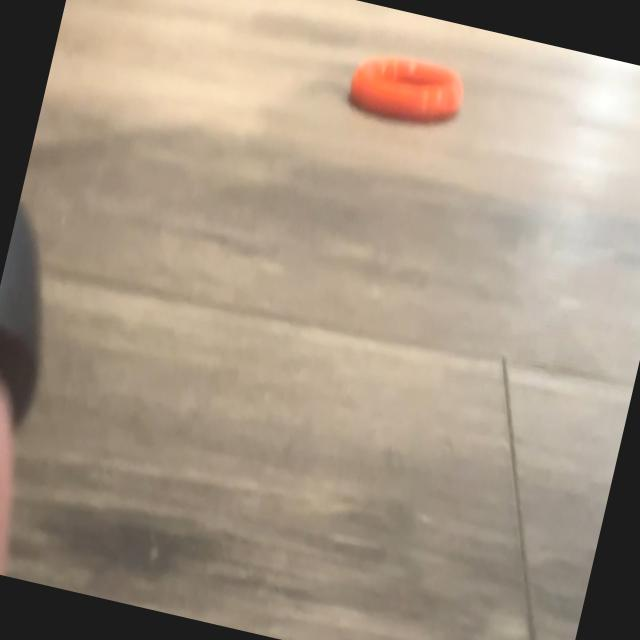note: (343, 36, 473, 138)
